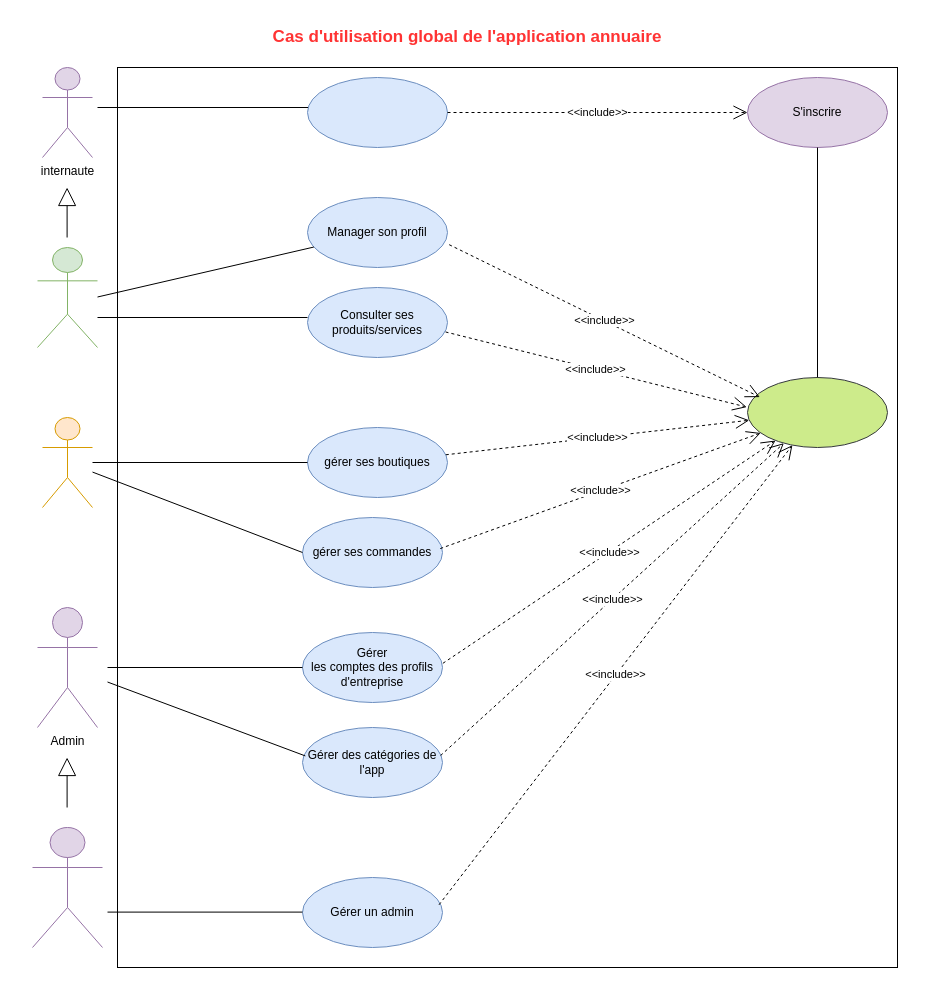
The diagram is 934 pixels wide and 1004 high, and some of its shapes have lost their labels. Each missing label, with the box of its shape:
BusinessOwner: (42, 416, 92, 508)
client: (36, 246, 98, 348)
Créer un compte: (306, 76, 448, 148)
S'authentifier: (746, 376, 888, 448)
SuperAdmin: (32, 826, 102, 948)
